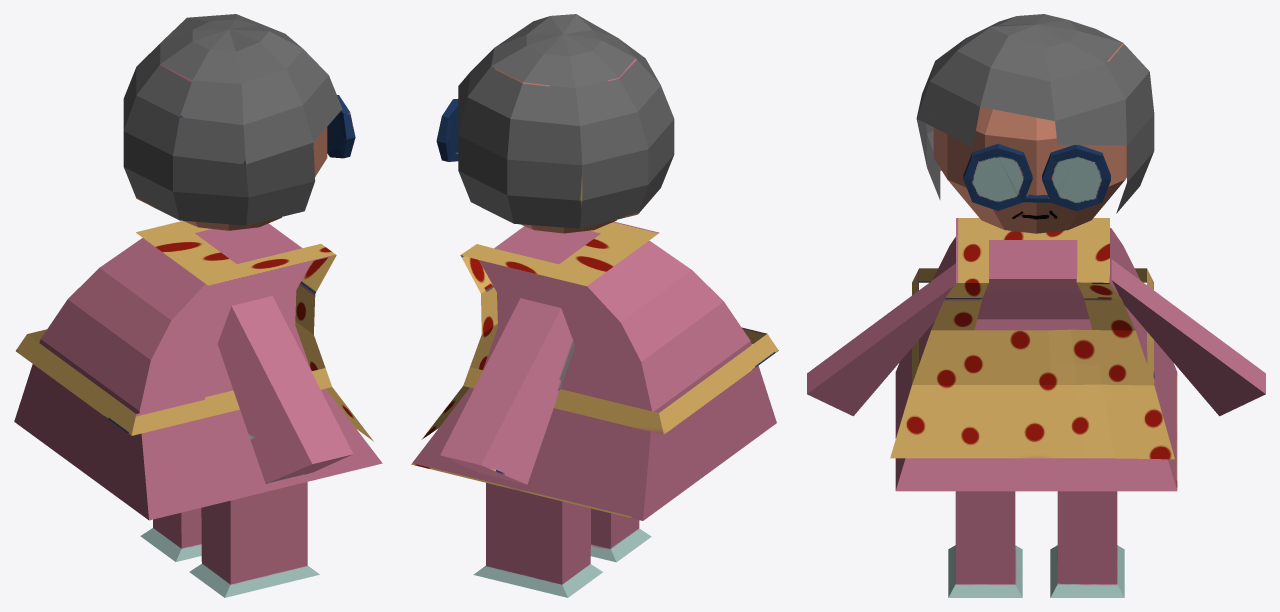
Rendered from velhota.fbx.
3 renders of one model, left to right at view 1: azimuth 30°, elevation 25°; view 2: azimuth 150°, elevation 25°; view 3: azimuth 270°, elevation 25°, orthographic. The views are drawn at different scales.
Visible parts, largest first — view 1: velhota; view 2: velhota; view 3: velhota.
Part boxes in pixels (<box>): velhota: <box>14,14,382,597</box>; velhota: <box>411,14,778,597</box>; velhota: <box>807,14,1265,597</box>.
Bounding box in the file's own units: 282 × 562 × 424.
Materials: 1 (1 with a texture image).
